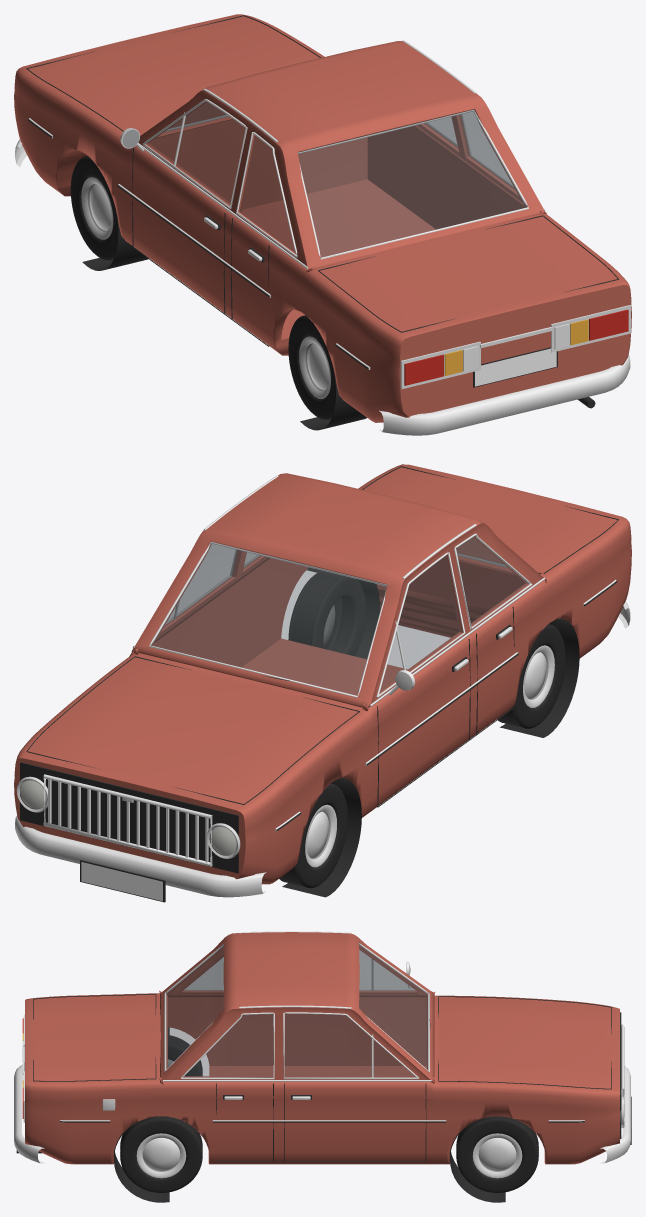
File: moskvich.glb
3 renders of one model, top to bottom at view 1: azimuth 30°, elevation 25°; view 2: azimuth 150°, elevation 25°; view 3: azimuth 270°, elevation 25°, orthographic. The views are drawn at different scales.
Visible parts, largest first — view 1: body, glass, chrome, black, tyre, tail, plate, amber, reverse; view 2: body, glass, chrome, black, tyre, plate, lamp; view 3: body, glass, chrome, tyre, black.
Boxes of the visible parts, x1,y1,x2,y2 form: body: (14,14,631,422); glass: (123,101,526,257); chrome: (15,40,630,435); black: (26,15,618,430); tyre: (70,156,335,419); tail: (404,309,628,385); plate: (475,348,556,386); amber: (444,319,588,375); reverse: (463,324,569,371); body: (14,464,631,884); glass: (151,536,527,695); chrome: (15,475,630,897); black: (20,466,618,902); tyre: (279,573,565,888); plate: (81,862,162,901); lamp: (20,780,236,855); body: (25,932,619,1164); glass: (166,943,427,1077); chrome: (14,931,630,1178); tyre: (120,1035,538,1192); black: (16,994,631,1202).
Bounding box in the file's own units: 1.74 × 1.5 × 4.41.
